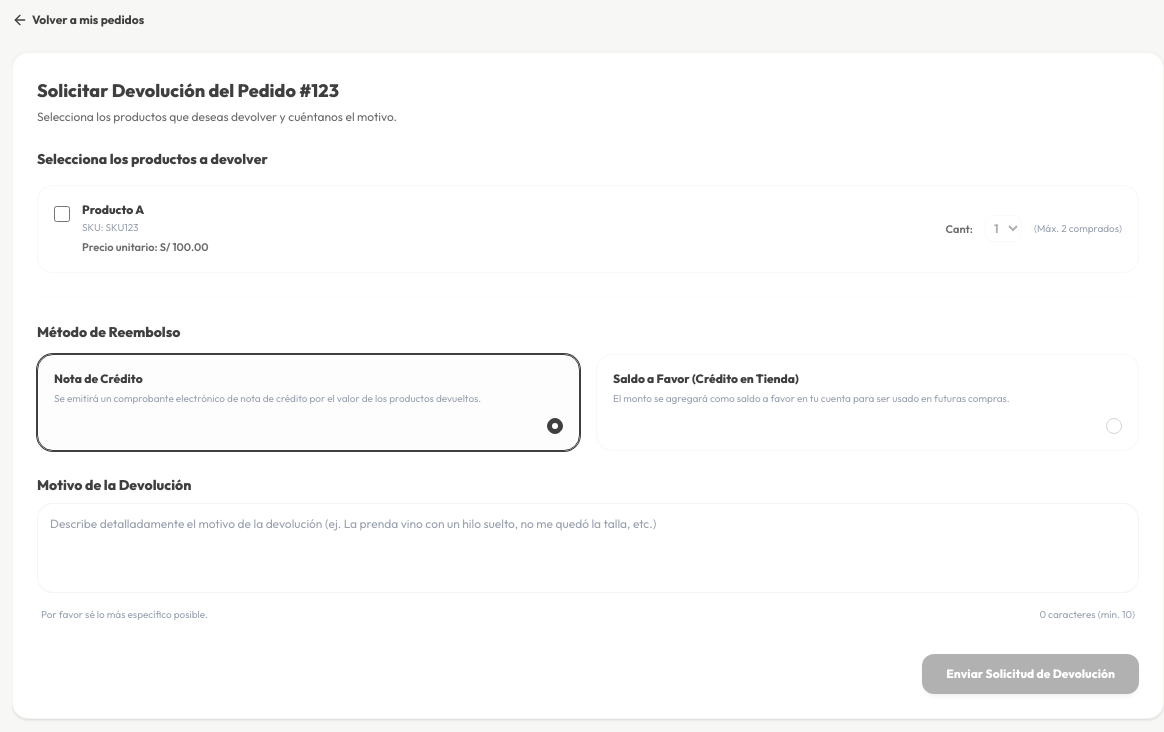
Test: ReturnRequestPage Component › enables the submit button only when form is valid (item selected and reason >= 10 chars)
Expected: the text "Producto A" is shown, [82,202,144,217]
Expected: the button "Enviar Solicitud de Devolución" is disabled, [922,654,1139,694]
// Check item checkbox
Click the checkbox.
click(62, 214)  # box [54,206,70,222]
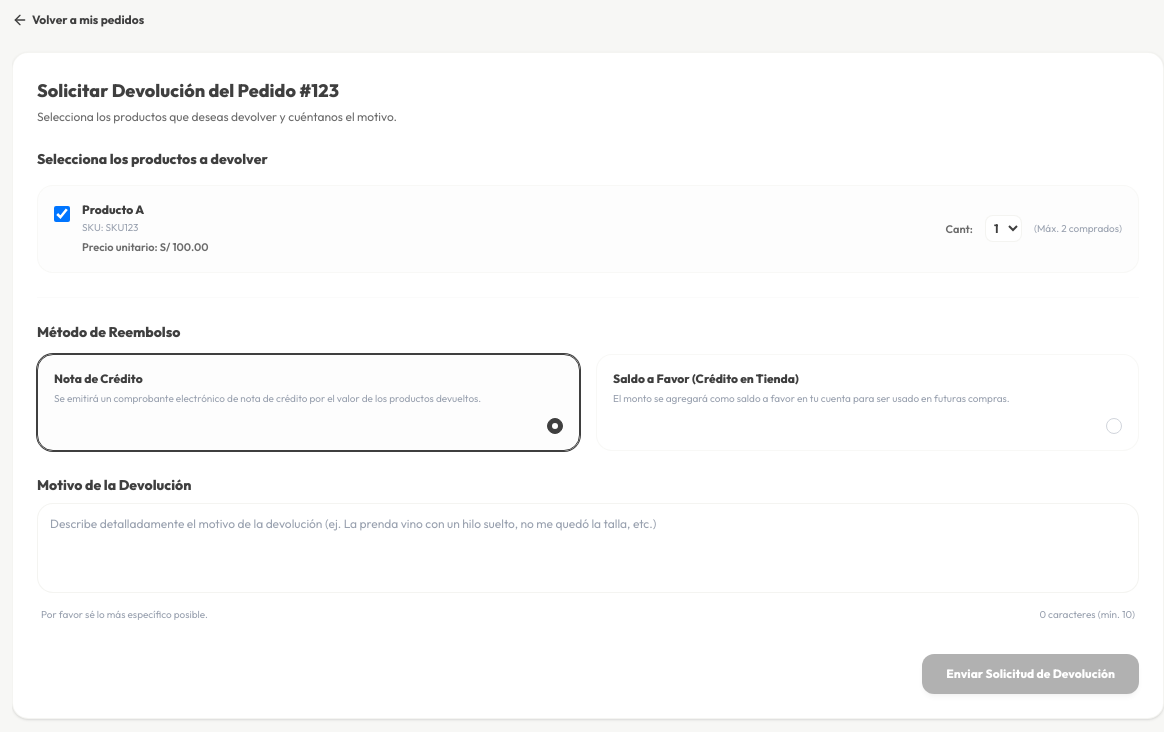
Expected: the button "Enviar Solicitud de Devolución" is disabled, [922,654,1139,694]
// Fill short reason
Replace the text in the text box with placeholder "Describe detalladamente el motivo" with "Corto" at (588, 548), box [37,502,1139,592]
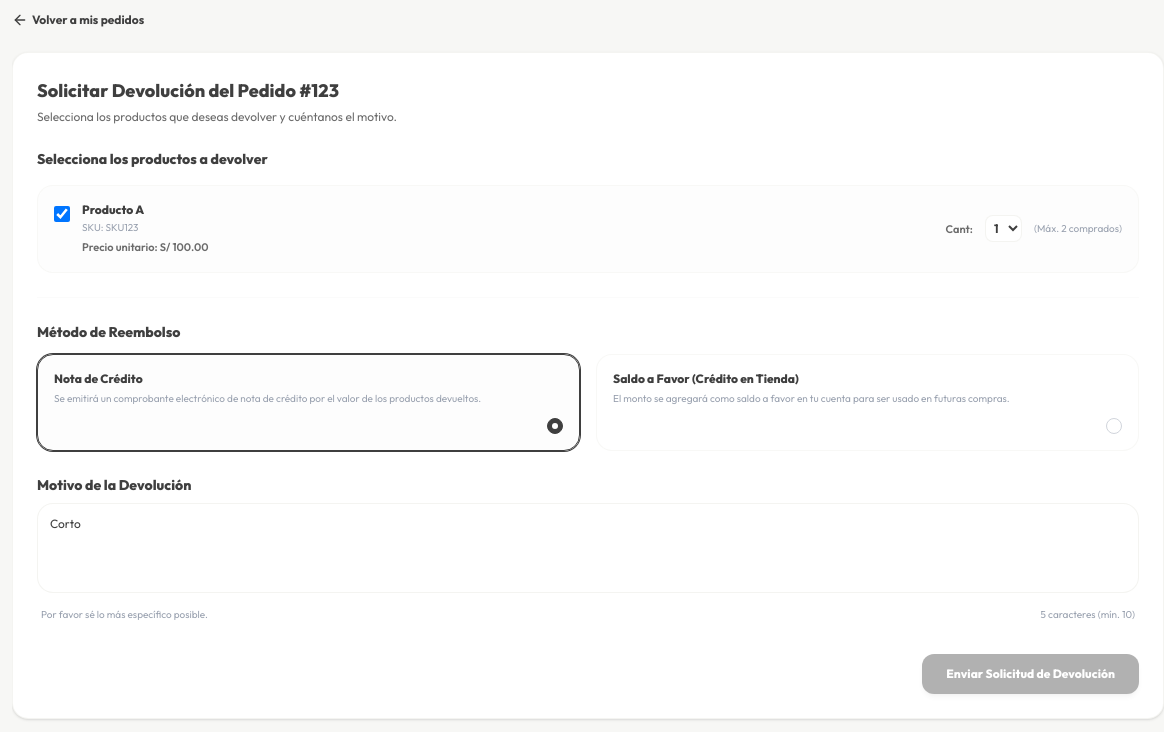
Expected: the button "Enviar Solicitud de Devolución" is disabled, [922,654,1139,694]
// Fill valid reason
Replace the text in the text box with placeholder "Describe detalladamente el motivo" with "Motivo largo de prueba" at (588, 548), box [37,502,1139,592]
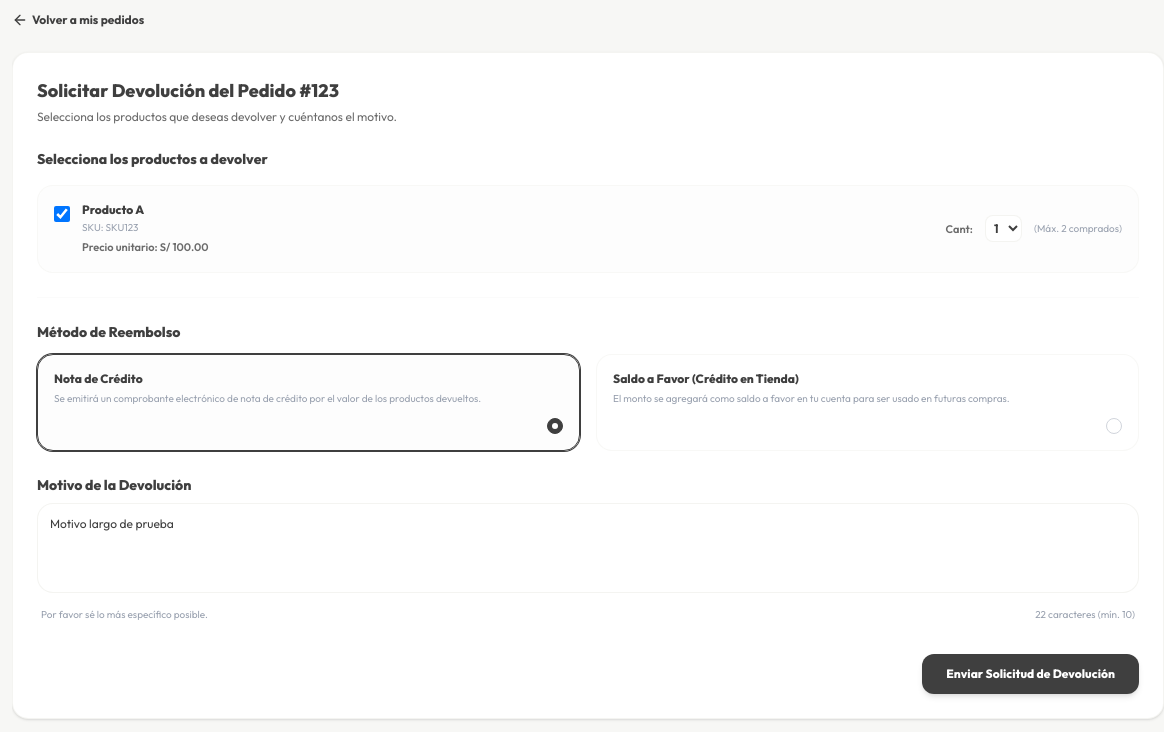
Result: the button "Enviar Solicitud de Devolución" is enabled at [922,654,1139,694]
